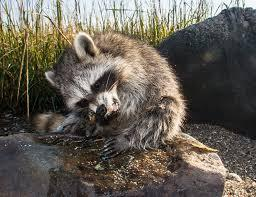raccoon: (22, 17, 198, 185)
